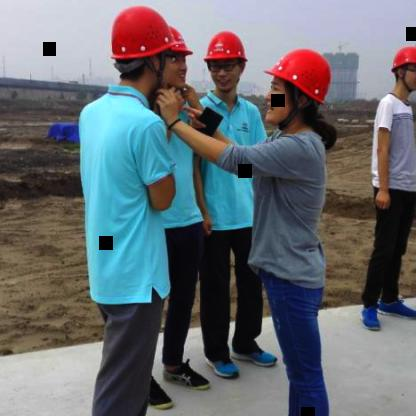helmet: (110, 5, 174, 93), (262, 48, 334, 124), (200, 30, 249, 94), (160, 21, 192, 92), (391, 43, 416, 92)
